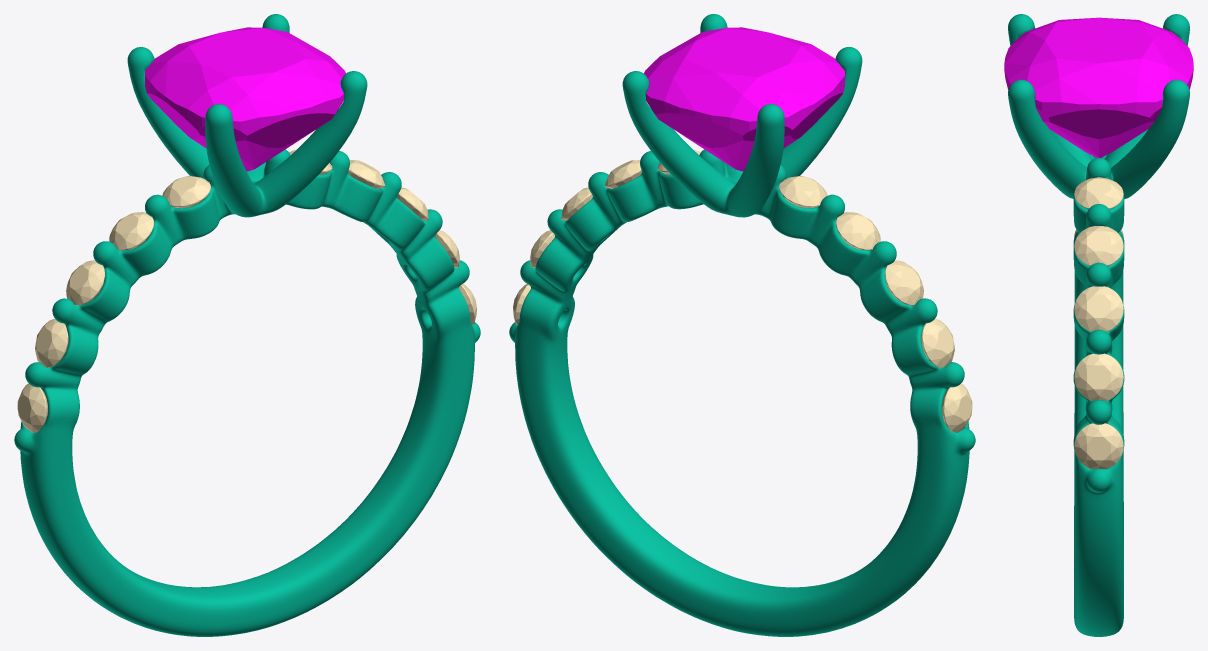
Rendered from BE1D2001_CU_200ct_RENDER.glb.
The picture shows the model from 3 angles, left to right: view 1: azimuth 30°, elevation 25°; view 2: azimuth 150°, elevation 25°; view 3: azimuth 270°, elevation 25°; orthographic projection.
Parts seen in each view (by area): view 1: Metal 01, CS_Diamond_Cushion, Diamond_Round_Gem_SH.002, Diamond_Round_Gem_SH.003, Diamond_Round_Gem_SH.001, Diamond_Round_Gem_SH.004, Diamond_Round_Gem_SH, Diamond_Round_Gem_SH.008; view 2: Metal 01, CS_Diamond_Cushion, Diamond_Round_Gem_SH.002, Diamond_Round_Gem_SH.001, Diamond_Round_Gem_SH.003, Diamond_Round_Gem_SH.004, Diamond_Round_Gem_SH, Diamond_Round_Gem_SH.008; view 3: Metal 01, CS_Diamond_Cushion, Diamond_Round_Gem_SH.006, Diamond_Round_Gem_SH.005, Diamond_Round_Gem_SH.007, Diamond_Round_Gem_SH.008, Diamond_Round_Gem_SH.009.
Boxes of the visible parts, x1,y1,x2,y2 form: Metal 01: (14,14,480,636); CS_Diamond_Cushion: (145,27,345,171); Diamond_Round_Gem_SH.002: (66,260,105,305); Diamond_Round_Gem_SH.003: (109,212,153,250); Diamond_Round_Gem_SH.001: (35,319,68,367); Diamond_Round_Gem_SH.004: (162,175,210,208); Diamond_Round_Gem_SH: (17,383,47,432); Diamond_Round_Gem_SH.008: (348,160,385,188); Metal 01: (509,14,975,636); CS_Diamond_Cushion: (644,27,844,171); Diamond_Round_Gem_SH.002: (884,260,923,305); Diamond_Round_Gem_SH.001: (921,319,954,367); Diamond_Round_Gem_SH.003: (836,212,880,250); Diamond_Round_Gem_SH.004: (779,175,827,208); Diamond_Round_Gem_SH: (942,383,972,432); Diamond_Round_Gem_SH.008: (604,160,641,188); Metal 01: (1008,14,1189,636); CS_Diamond_Cushion: (1004,17,1193,157); Diamond_Round_Gem_SH.006: (1074,353,1123,401); Diamond_Round_Gem_SH.005: (1074,423,1123,468); Diamond_Round_Gem_SH.007: (1074,286,1123,331); Diamond_Round_Gem_SH.008: (1074,226,1123,266); Diamond_Round_Gem_SH.009: (1074,177,1123,209).
Size of the model in its own units: 21.07 by 25.01 by 7.5.
